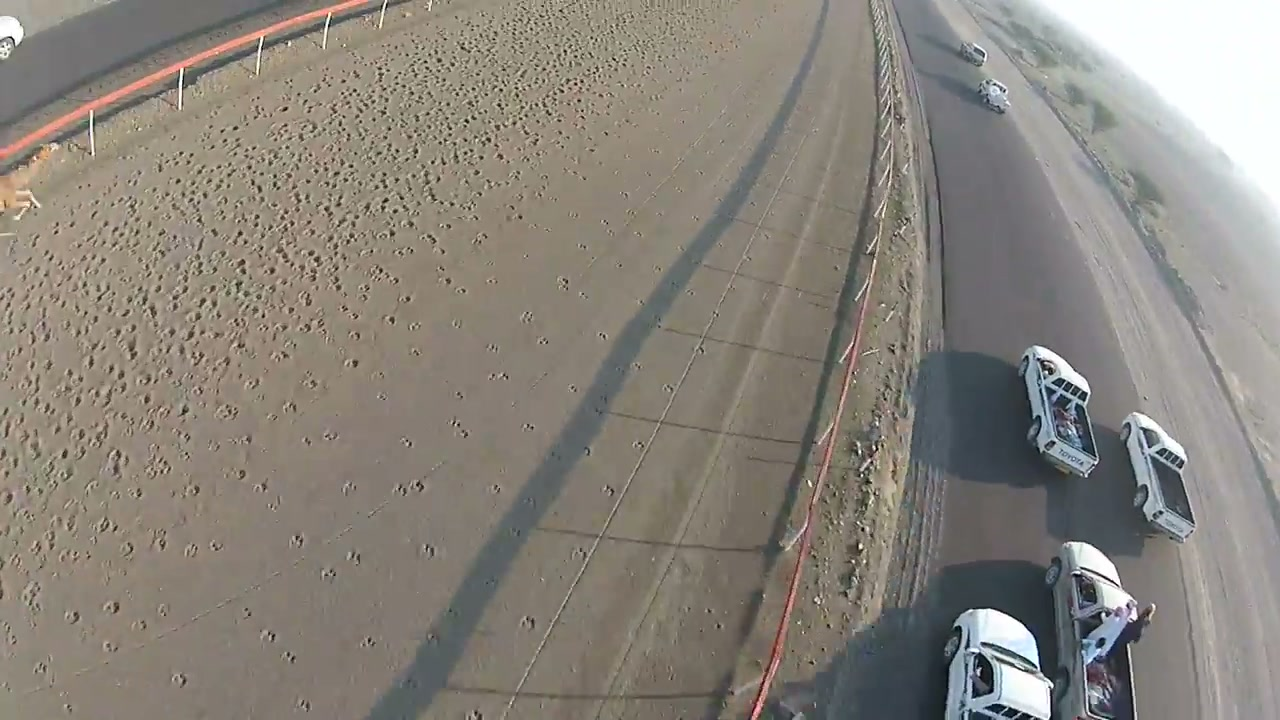animal_foot_print: (28, 12, 700, 573), (62, 253, 519, 669)
